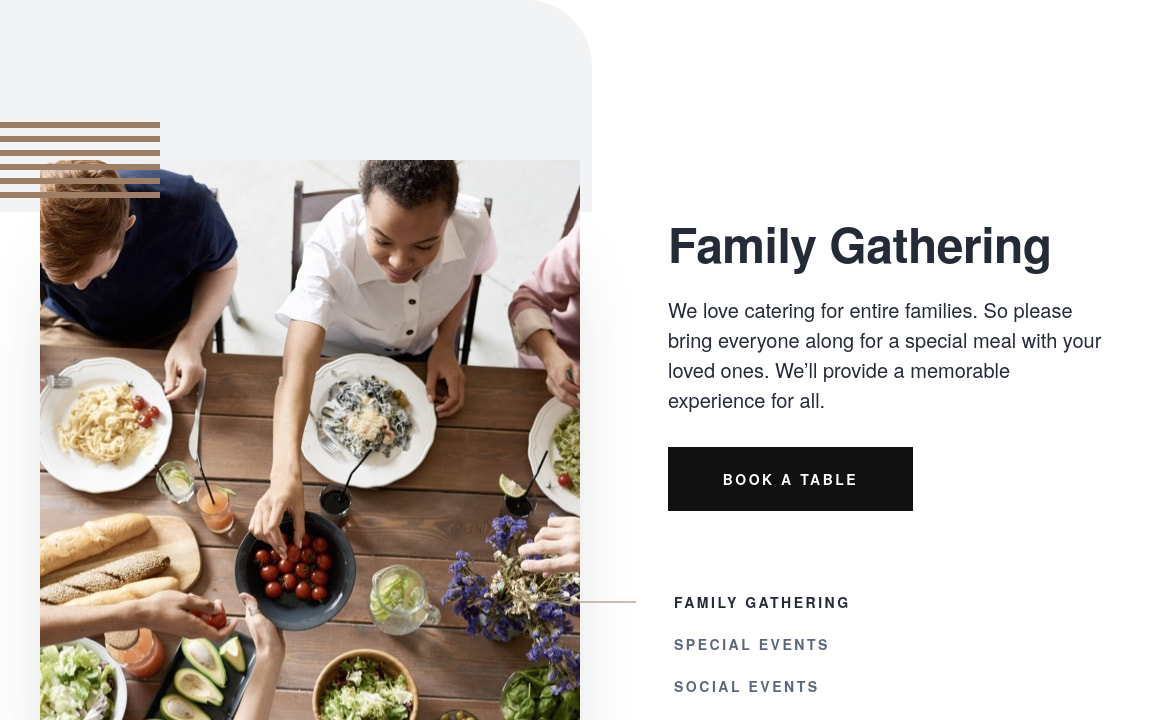
it: Events › changes the visible experience when a tab is selected
Click the tab "Special Events".
click(752, 644)  # box [668,628,836,658]
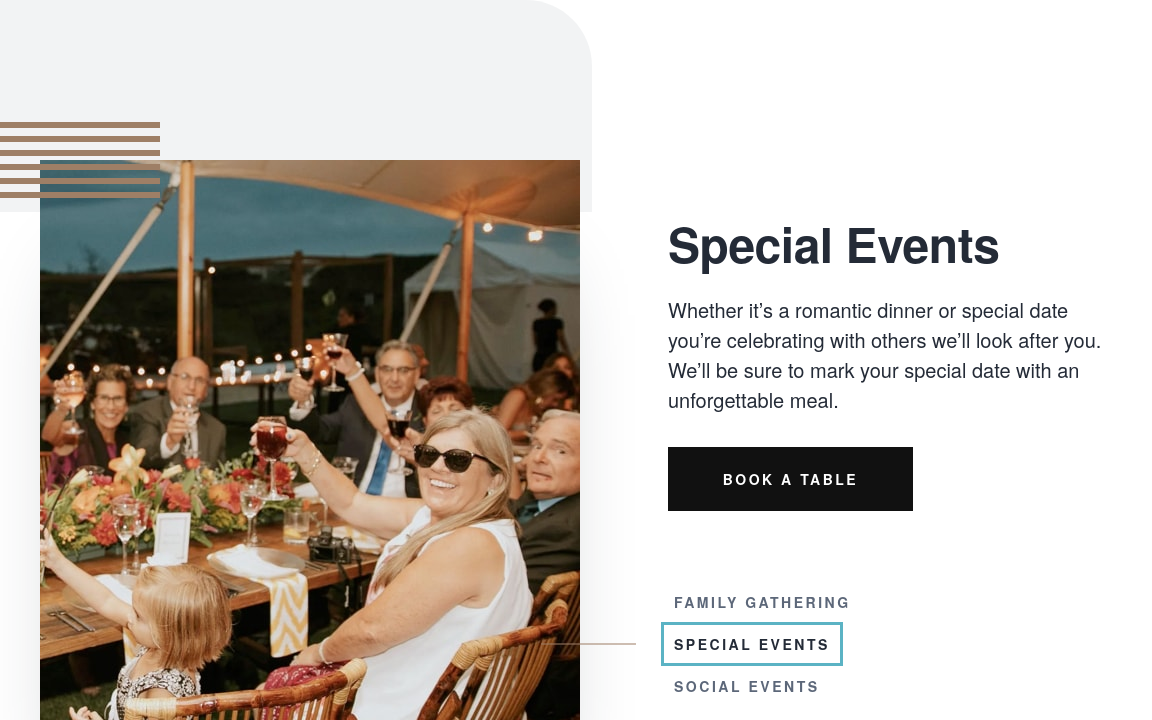
Expected: the heading "Special Events" is shown, [668,208,999,278]
Expected: the text "romantic dinner or special date" is shown, [668,294,1101,414]
